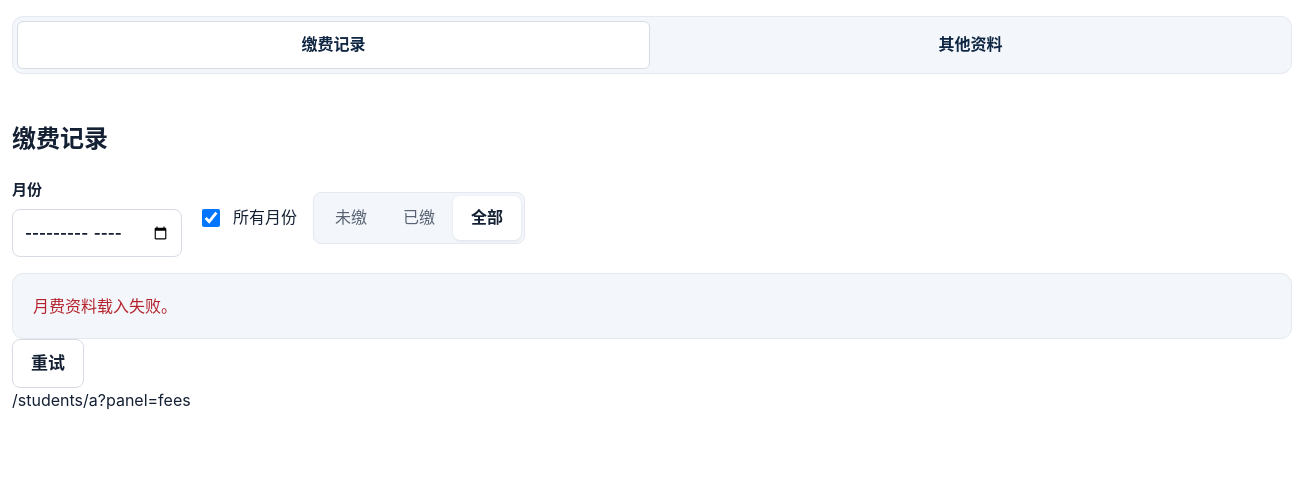
keeps a failed query distinct from empty results and allows retry without widening scope
Check: the text "月费资料载入失败。" is shown, box [12,273,1291,339]
Click the button "重试" at {"x": 48, "y": 364}, box [12,339,84,388]
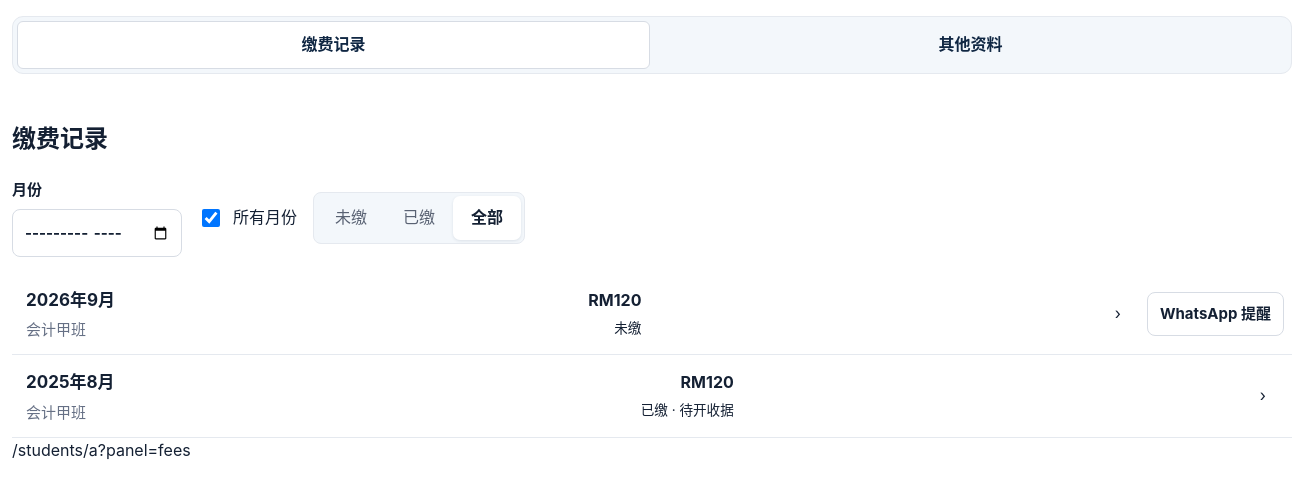
Check: the button "2025年8月 会计甲班 RM120 已缴 · 待开收据 ›" is shown, box [12,355,1280,437]
